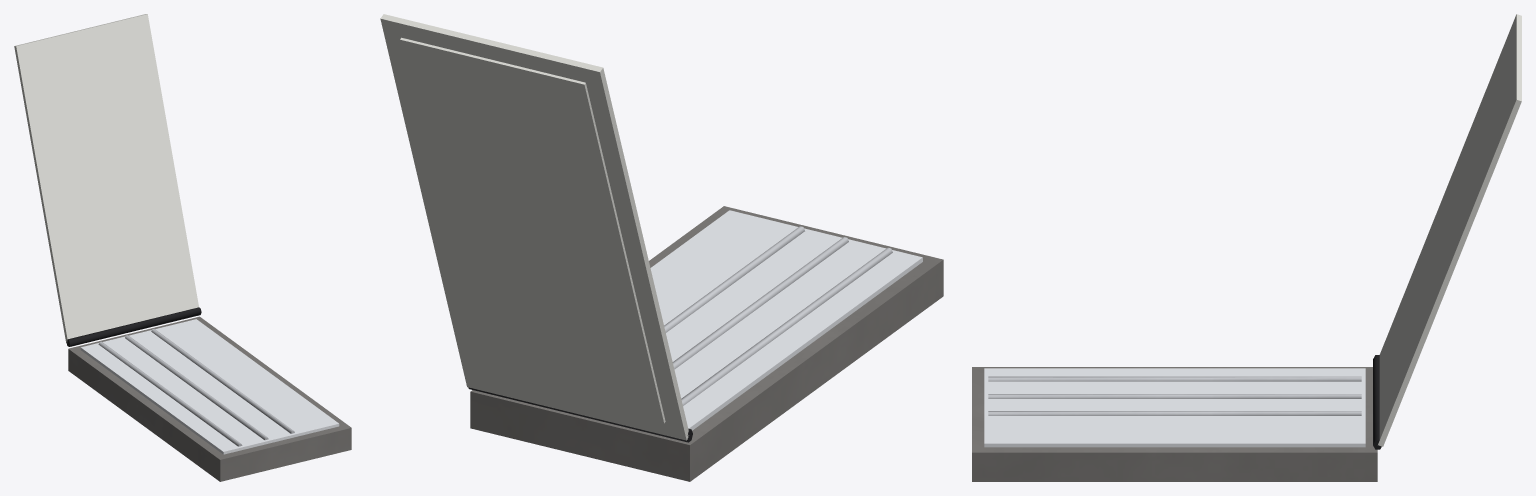
Rendered from rover27_rover_radiator_s_open.glb.
3 views of the same model, side by side, from view 1: azimuth 30°, elevation 25°; view 2: azimuth 150°, elevation 25°; view 3: azimuth 270°, elevation 25° (orthographic). The views are drawn at different scales.
Visible parts, largest first — view 1: cover, radiator_panel, tray, loop_pipes, hinge; view 2: cover, radiator_panel, tray, loop_pipes; view 3: radiator_panel, tray, cover, loop_pipes, hinge.
Part boxes in pixels (bbox=[...]): cover: bbox=[14, 14, 198, 342]; radiator_panel: bbox=[80, 319, 339, 454]; tray: bbox=[68, 316, 351, 481]; loop_pipes: bbox=[98, 328, 294, 446]; hinge: bbox=[66, 307, 201, 346]; cover: bbox=[380, 14, 688, 440]; radiator_panel: bbox=[650, 210, 922, 430]; tray: bbox=[470, 206, 943, 481]; loop_pipes: bbox=[664, 226, 892, 405]; radiator_panel: bbox=[984, 368, 1365, 447]; tray: bbox=[972, 367, 1377, 481]; cover: bbox=[1378, 14, 1521, 446]; loop_pipes: bbox=[988, 376, 1361, 415]; hinge: bbox=[1373, 355, 1381, 449].
Bounding box in the file's own units: 0.5 × 1.04 × 1.36.
5 materials, 2 textured.
